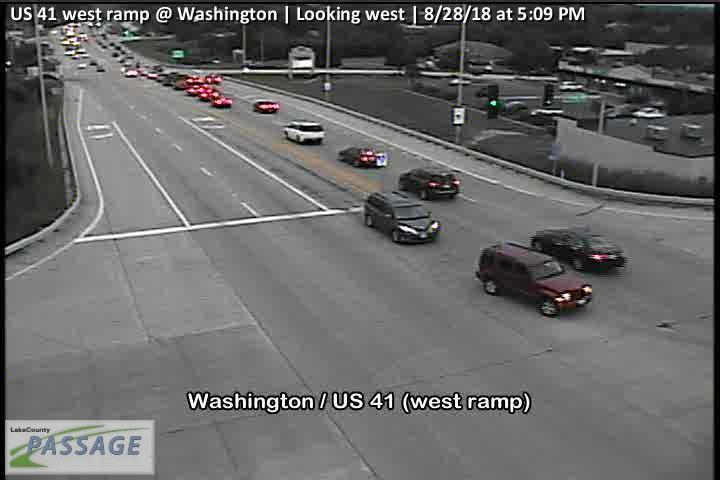SUV: (476, 242, 593, 317), (362, 191, 440, 243), (398, 165, 460, 198), (279, 120, 324, 142)
Sedan: (531, 226, 626, 269), (338, 143, 388, 167), (251, 99, 280, 113)
